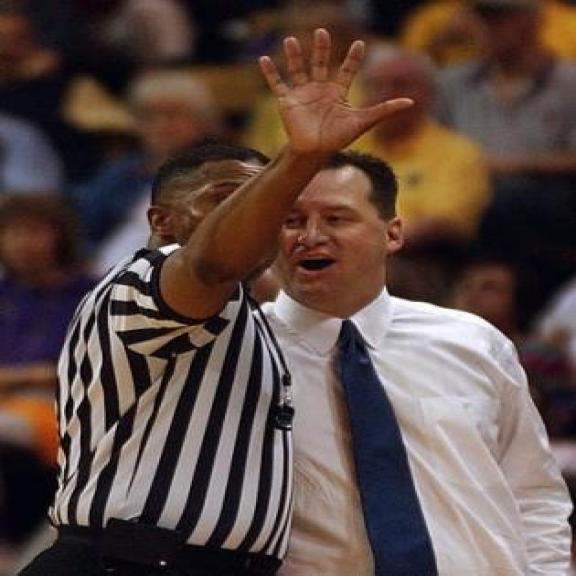face: (271, 164, 408, 305), (366, 59, 436, 131), (138, 96, 210, 160), (8, 210, 62, 278), (460, 266, 516, 322), (479, 12, 536, 64)
